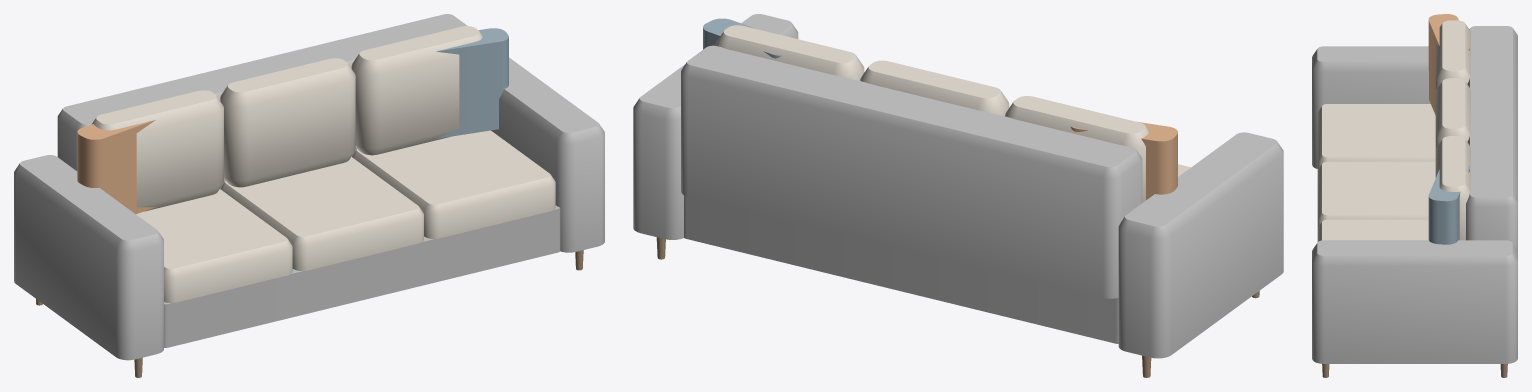
3 views of the same model, side by side, from view 1: azimuth 30°, elevation 25°; view 2: azimuth 150°, elevation 25°; view 3: azimuth 270°, elevation 25° (orthographic). The views are drawn at different scales.
Visible parts, largest first — view 1: Sofa văng Chiều dài=2200; view 2: Sofa văng Chiều dài=2200; view 3: Sofa văng Chiều dài=2200.
Part boxes in pixels (x1,y1,x2,y2): Sofa văng Chiều dài=2200: (14, 14, 604, 377); Sofa văng Chiều dài=2200: (633, 14, 1283, 377); Sofa văng Chiều dài=2200: (1312, 14, 1517, 377).
Bounding box in the file's own units: 2.22 × 0.85 × 0.9.
